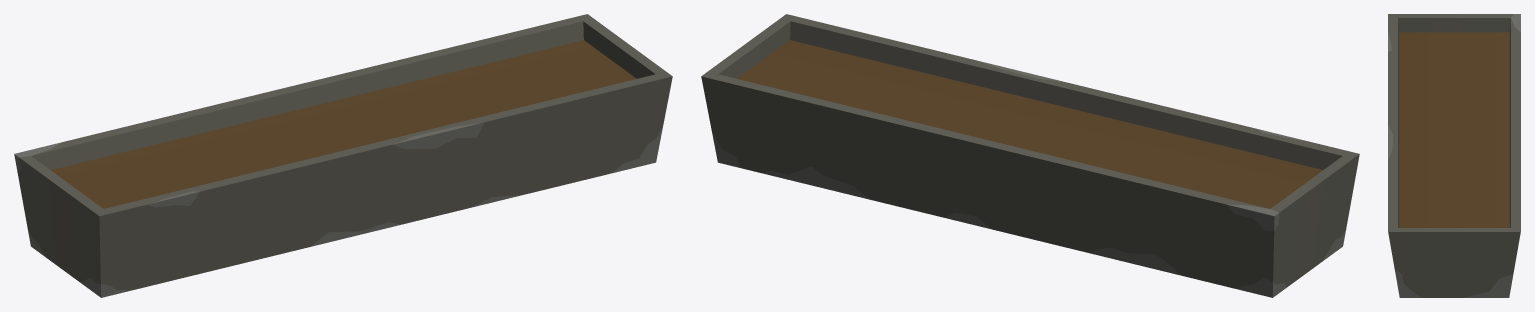
Rendered from Water_01.fbx.
3 renders of one model, left to right at view 1: azimuth 30°, elevation 25°; view 2: azimuth 150°, elevation 25°; view 3: azimuth 270°, elevation 25°, orthographic. The views are drawn at different scales.
Parts seen in each view (by area): view 1: Water_01; view 2: Water_01; view 3: Water_01.
Part boxes in pixels (left/top/right/bottom): Water_01: left=14, top=14, right=672, bottom=297; Water_01: left=701, top=14, right=1359, bottom=297; Water_01: left=1388, top=14, right=1520, bottom=297.
Size of the model in its own units: 1.76 by 0.2623 by 0.4531.
